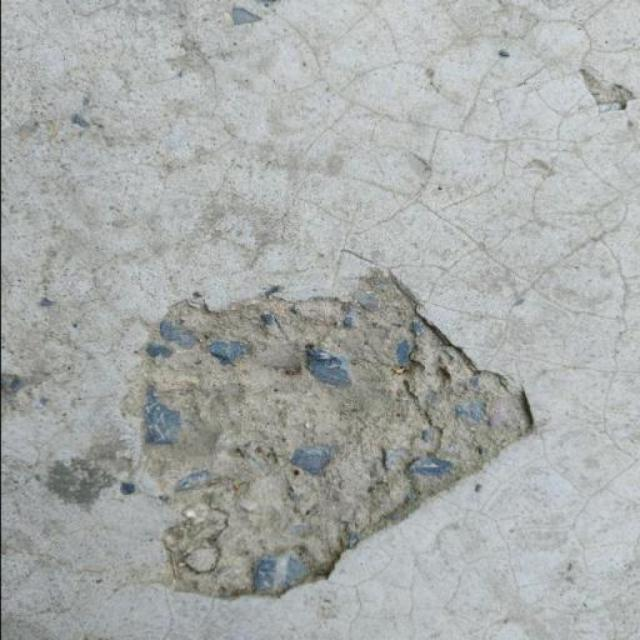D10: (134, 266, 537, 599)
